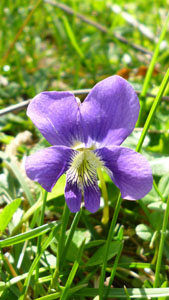violet: (25, 84, 156, 212)
